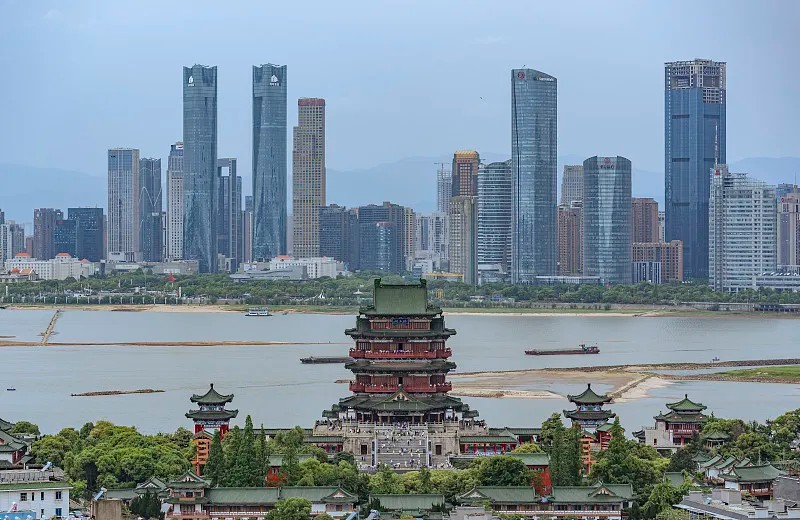Teng: (322, 279, 479, 424)
